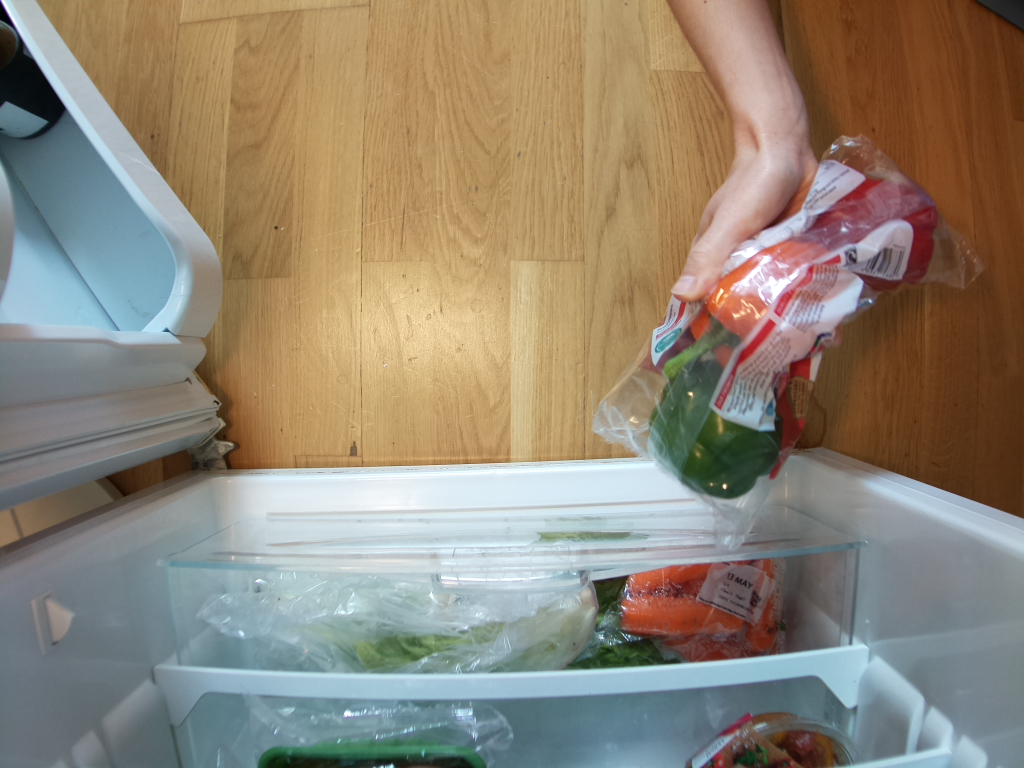pepper: (661, 244, 847, 379), (648, 357, 780, 502), (798, 170, 942, 295)
